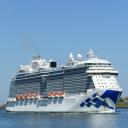cruises: (6, 49, 124, 115)
